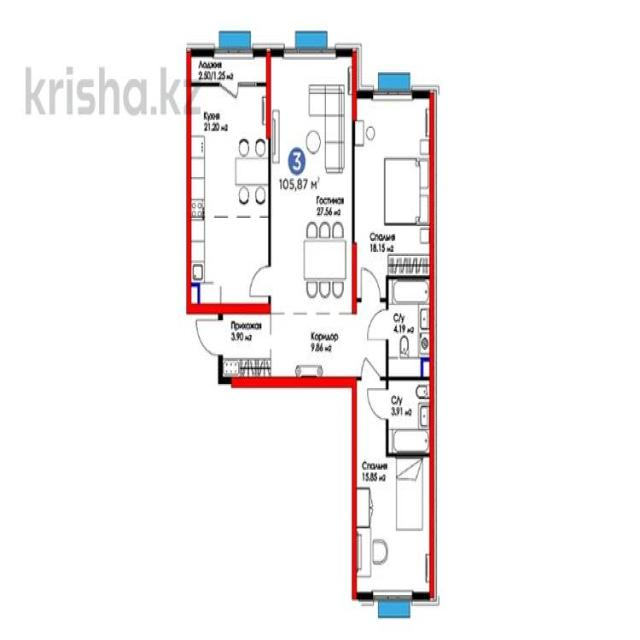balcony: (190, 48, 268, 84)
bathroom: (388, 284, 430, 376), (387, 380, 432, 453)
hallway: (222, 316, 385, 375)
kitchen: (189, 90, 270, 300)
living_room: (272, 46, 356, 312), (358, 97, 435, 276), (354, 459, 432, 594)
